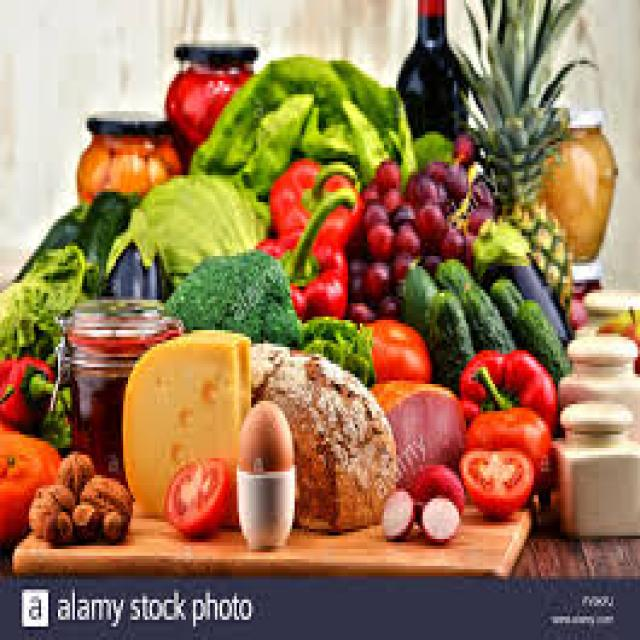biodegradable: (188, 51, 418, 202), (452, 0, 597, 212), (244, 337, 394, 529), (118, 327, 244, 512), (131, 165, 271, 286), (160, 246, 300, 340), (254, 182, 350, 313), (471, 212, 567, 340), (0, 239, 97, 354), (498, 186, 568, 334), (370, 374, 466, 475), (456, 344, 558, 435), (268, 155, 365, 242), (464, 404, 551, 495), (0, 428, 58, 542), (78, 189, 136, 297), (102, 202, 167, 297), (10, 199, 85, 273), (297, 313, 374, 381), (456, 441, 529, 512), (423, 283, 471, 384), (165, 458, 230, 532), (510, 296, 568, 374), (454, 277, 510, 351), (0, 354, 53, 428), (365, 317, 430, 377), (237, 398, 290, 468), (399, 458, 462, 512), (77, 472, 133, 526), (594, 303, 638, 367), (406, 256, 437, 327), (415, 492, 459, 539), (27, 485, 73, 529), (53, 448, 92, 499), (488, 276, 524, 327), (413, 199, 447, 243), (413, 128, 449, 168), (44, 381, 65, 448), (382, 485, 411, 532), (362, 216, 394, 256), (435, 253, 473, 286), (363, 259, 392, 300), (403, 169, 437, 202), (41, 505, 70, 539), (97, 505, 126, 536), (70, 499, 97, 532), (445, 162, 469, 199), (442, 222, 466, 253), (375, 151, 399, 182), (450, 128, 474, 158), (394, 222, 415, 253), (425, 152, 449, 179), (355, 175, 382, 199), (285, 280, 304, 313), (360, 202, 386, 226), (389, 202, 413, 226), (0, 381, 12, 428), (379, 185, 399, 212), (374, 293, 401, 313), (348, 256, 362, 293), (389, 253, 410, 276), (345, 300, 367, 313)
glass: (162, 44, 254, 148), (393, 0, 466, 121), (75, 111, 176, 192), (553, 263, 601, 323)
